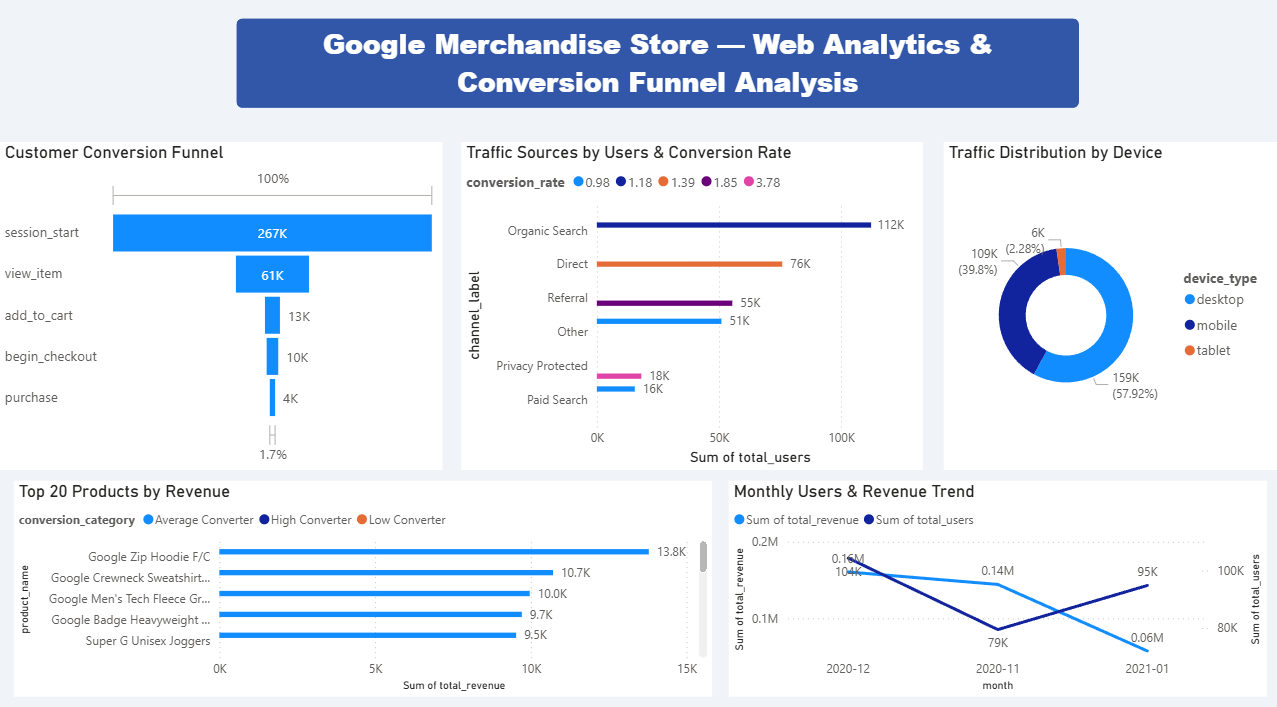

The dashboard page shown, as its layout file describes it:
{"tool":"powerbi","page":{"name":"Page 1","canvas":[1280,720],"ordinal":0},"visuals":[{"type":"funnel","title":"Customer Conversion Funnel","fields":{"Category":["google_analytics funnel_clean.funnel_step"],"Y":["Sum(google_analytics funnel_clean.users)"]},"box":[0,145.3,442,327.7],"z":0},{"type":"clusteredBarChart","title":"Traffic Sources by Users & Conversion Rate","fields":{"Y":["Sum(google_analytics traffic_sources_clean.total_users)"],"Series":["google_analytics traffic_sources_clean.conversion_rate"],"Category":["google_analytics traffic_sources_clean.channel_label"]},"box":[461.8,145.3,461.8,327.7],"z":1},{"type":"donutChart","title":"Traffic Distribution by Device","fields":{"Category":["google_analytics devices_clean.device_type"],"Y":["Sum(google_analytics devices_clean.total_users)"]},"box":[943.2,145.3,336.8,327.7],"z":2},{"type":"clusteredBarChart","title":"Top 20 Products by Revenue","fields":{"Category":["google_analytics products_clean.product_name"],"Y":["Sum(google_analytics products_clean.total_revenue)"],"Series":["google_analytics products_clean.conversion_category"]},"box":[14,483.7,698.6,215.9],"z":3},{"type":"lineChart","title":"Monthly Users & Revenue Trend","fields":{"Y":["Sum(google_analytics monthly_trend_clean.total_revenue)"],"Category":["google_analytics monthly_trend_clean.month"],"Y2":["Sum(google_analytics monthly_trend_clean.total_users)"]},"box":[729,483.7,538.5,215.9],"z":4},{"type":"shape","box":[236.2,21.3,842.9,89.9],"z":5},{"type":"textbox","box":[236.2,22.9,842.9,88.4],"z":6}]}

Visuals, with their boxes in screenshot pixels (x1, y1, x2, y2), scaled from the page's 1280x720 canvas onto the 1277x707 screenshot:
"Customer Conversion Funnel" funnel: x1=0, y1=143, x2=441, y2=464
"Traffic Sources by Users & Conversion Rate" clusteredBarChart: x1=461, y1=143, x2=921, y2=464
"Traffic Distribution by Device" donutChart: x1=941, y1=143, x2=1276, y2=464
"Top 20 Products by Revenue" clusteredBarChart: x1=14, y1=475, x2=711, y2=687
"Monthly Users & Revenue Trend" lineChart: x1=727, y1=475, x2=1265, y2=687
shape: x1=236, y1=21, x2=1077, y2=109
textbox: x1=236, y1=22, x2=1077, y2=109
